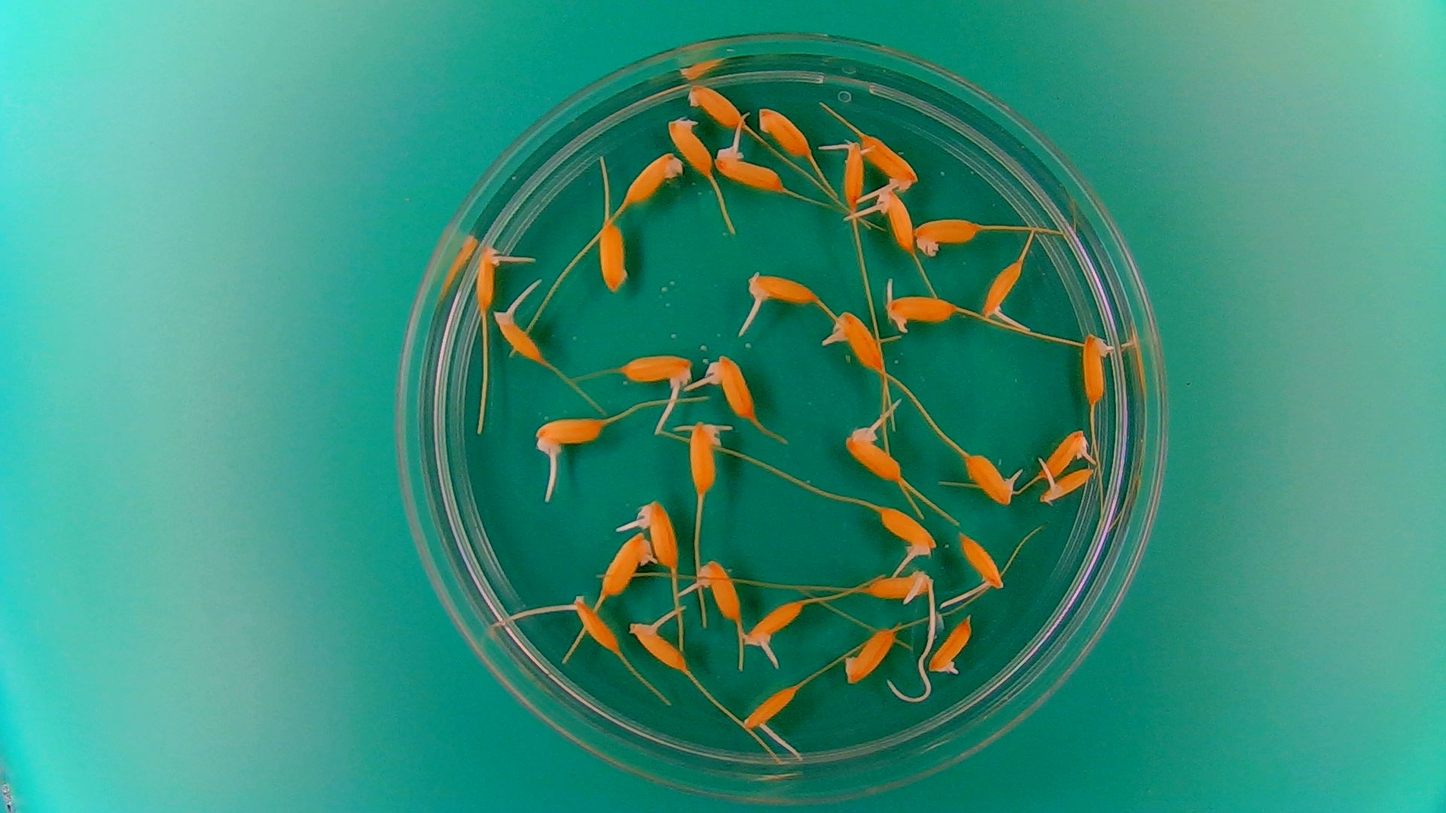no: (621, 147, 685, 205), (842, 625, 899, 685), (756, 103, 814, 159), (685, 81, 749, 129), (914, 214, 983, 254), (596, 217, 629, 294)
yes: (844, 419, 905, 484), (858, 133, 920, 193), (598, 531, 652, 599), (875, 504, 938, 561), (528, 412, 608, 455), (962, 449, 1020, 507), (883, 288, 956, 333), (748, 271, 823, 314), (712, 355, 760, 422), (712, 148, 782, 193), (837, 312, 886, 376), (667, 114, 716, 178), (1037, 428, 1094, 482), (740, 600, 805, 646), (490, 309, 544, 364), (570, 598, 622, 655), (639, 497, 678, 572), (635, 621, 690, 674), (983, 257, 1030, 318), (873, 187, 916, 253), (927, 615, 974, 675), (959, 530, 1005, 588), (700, 559, 743, 621), (1081, 330, 1116, 404), (623, 349, 693, 386), (690, 418, 725, 489), (743, 683, 799, 727), (862, 571, 936, 604), (1039, 466, 1097, 504), (840, 138, 865, 217), (472, 246, 499, 311)
